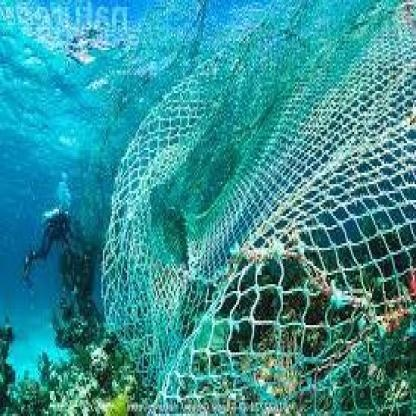net: (97, 9, 416, 416)
